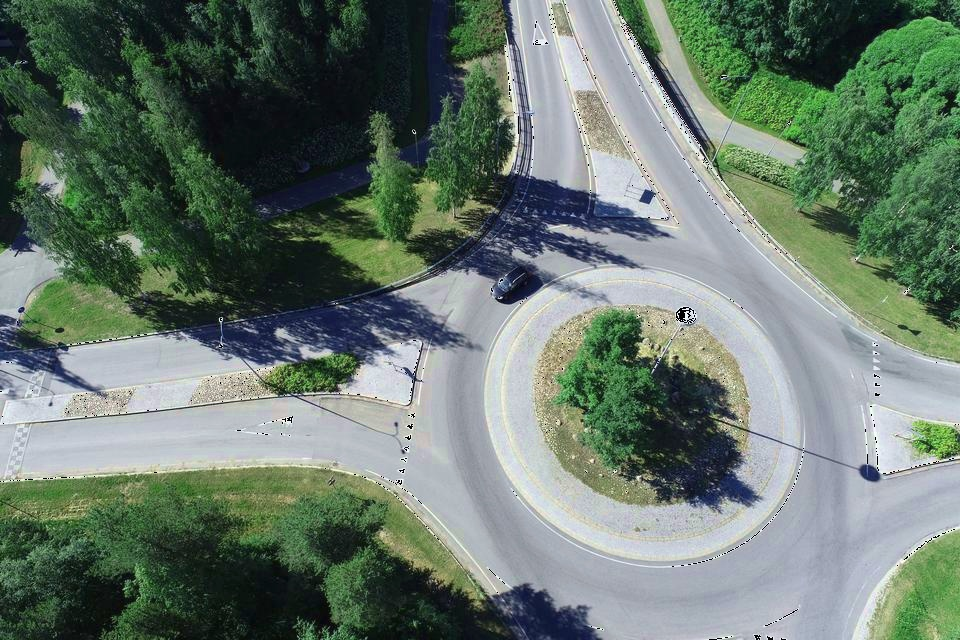roundabout: (353, 222, 950, 640)
